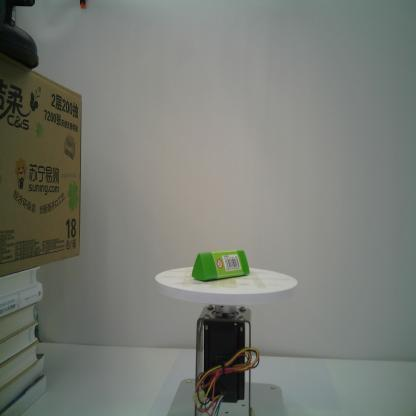Stationery: (191, 247, 251, 286)
